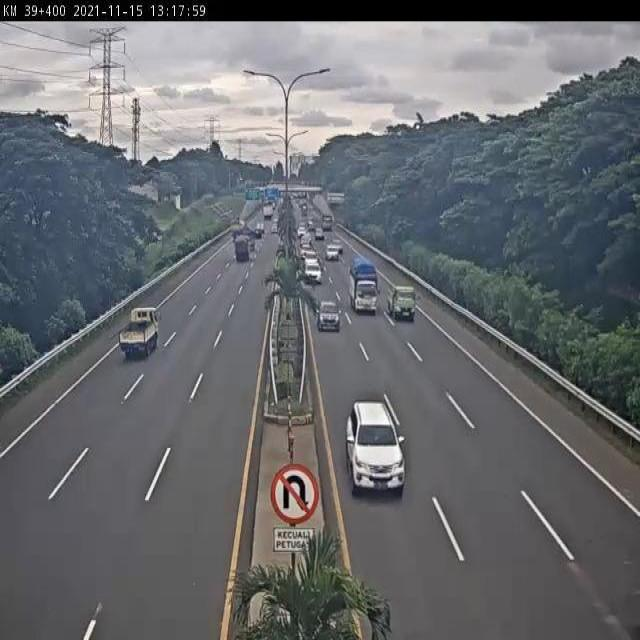ARABA: (344, 396, 408, 496), (314, 296, 342, 333), (303, 260, 323, 287)
KAMYONET: (112, 305, 161, 364), (349, 256, 381, 316), (387, 281, 418, 324)
